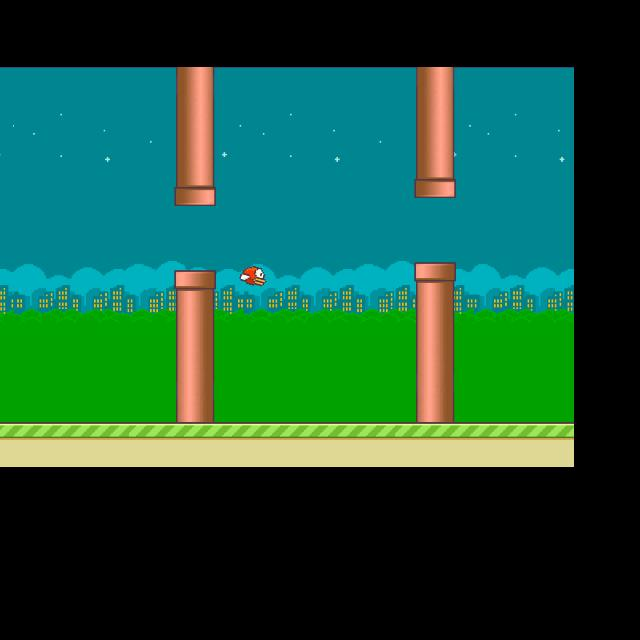bird: (240, 266, 265, 285)
pipedown: (414, 262, 455, 417), (173, 270, 216, 406)
pipeup: (175, 76, 215, 205), (413, 79, 455, 198)
